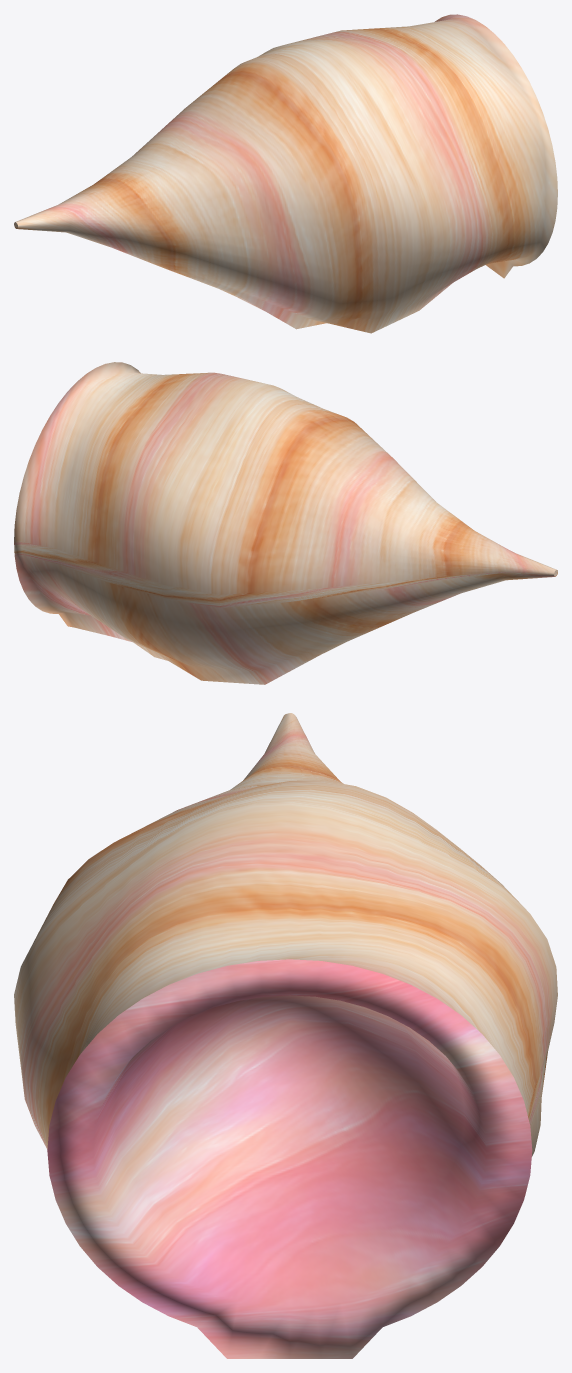
The model's file is conch_shell-B6Fvd5bO.glb.
3 renders of one model, top to bottom at view 1: azimuth 30°, elevation 25°; view 2: azimuth 150°, elevation 25°; view 3: azimuth 270°, elevation 25°, orthographic. The views are drawn at different scales.
Parts seen in each view (by area): view 1: HI_conch_shell; view 2: HI_conch_shell; view 3: HI_conch_shell.
Boxes of the visible parts, bbox=[...] form: HI_conch_shell: bbox=[14, 14, 557, 333]; HI_conch_shell: bbox=[14, 362, 557, 684]; HI_conch_shell: bbox=[14, 713, 557, 1358].
Bounding box in the file's own units: 1.25 × 0.65 × 0.75.
Materials: 1 (1 with a texture image).
